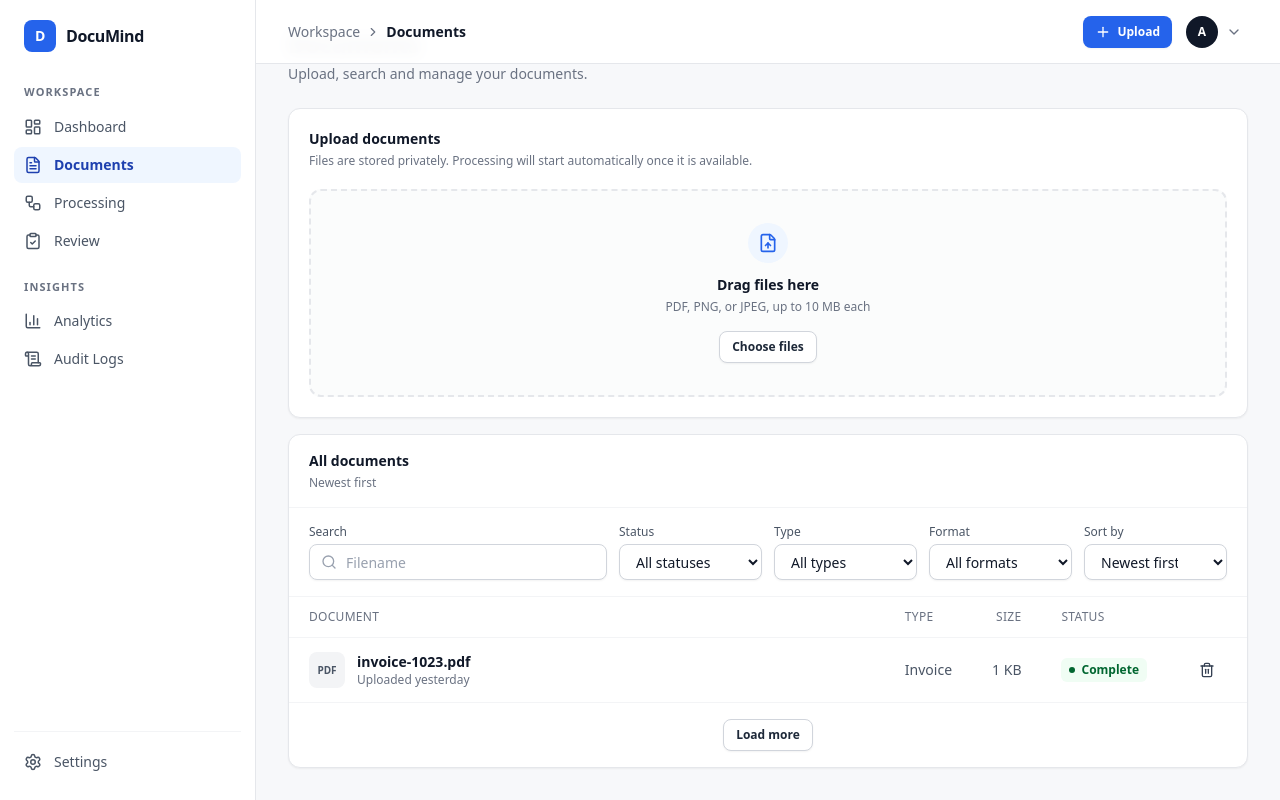
Test: DocumentsPage › list › loads more documents with the cursor
The image size is (1280, 800).
(page scrolled)
expect the heading "Documents" is shown: met, box [288,27,419,60]
Click the button "Load more".
click(768, 735)  # box [723,719,813,751]
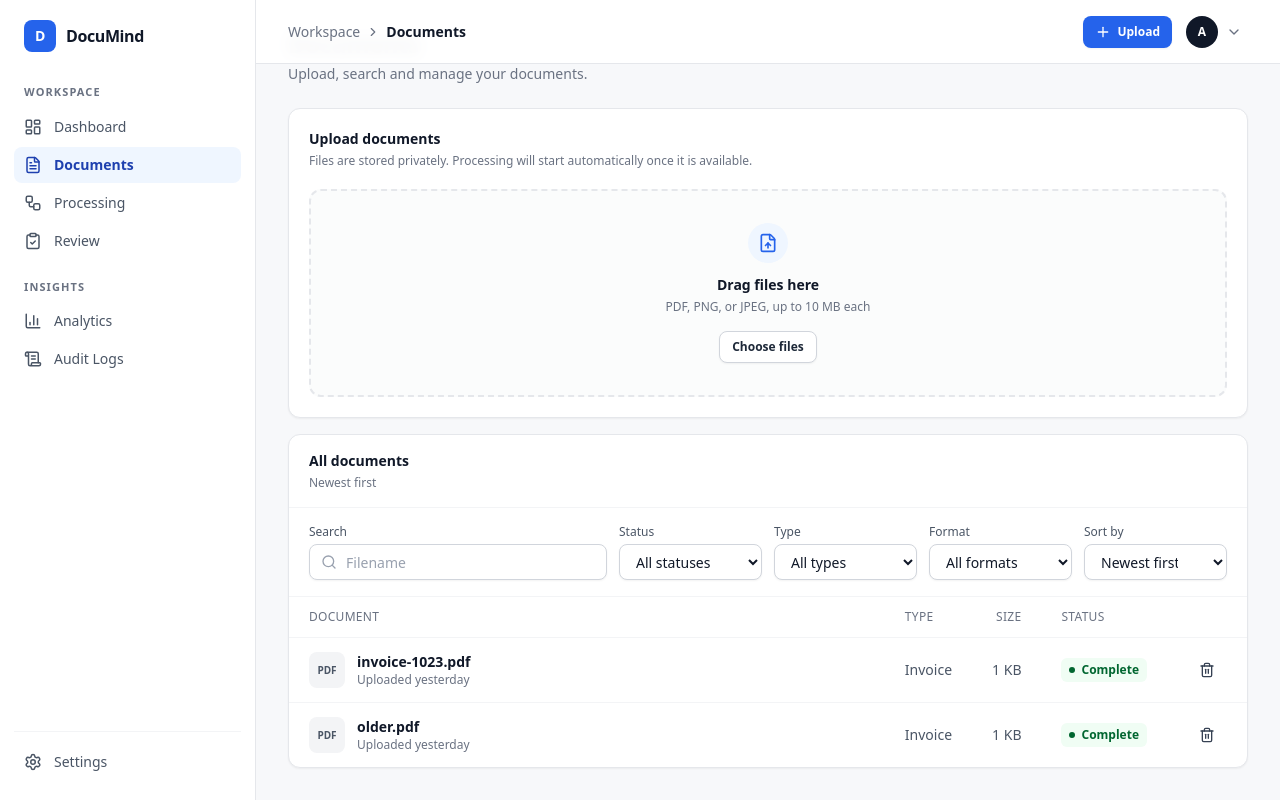
expect the link "older.pdf" is shown: met, box [357,717,419,736]
expect the button "Load more" is gone: met
